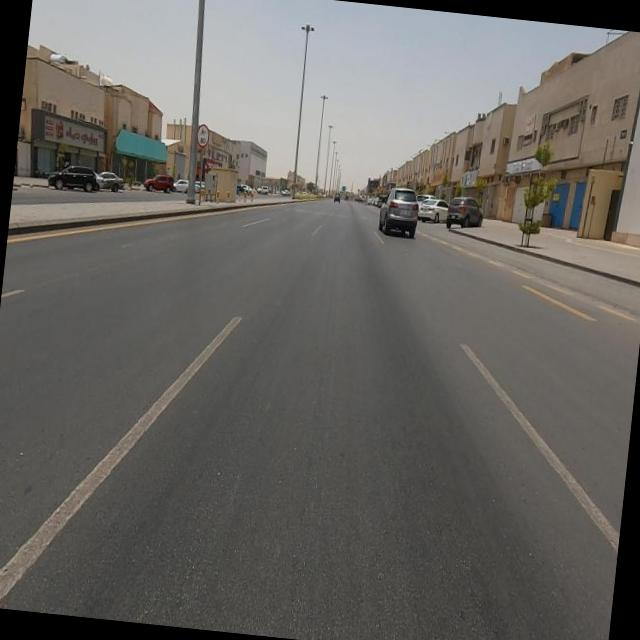debris: (469, 137, 572, 198)
